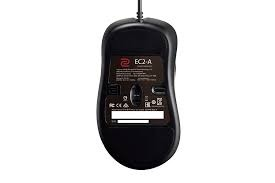mouse: (91, 17, 193, 175)
